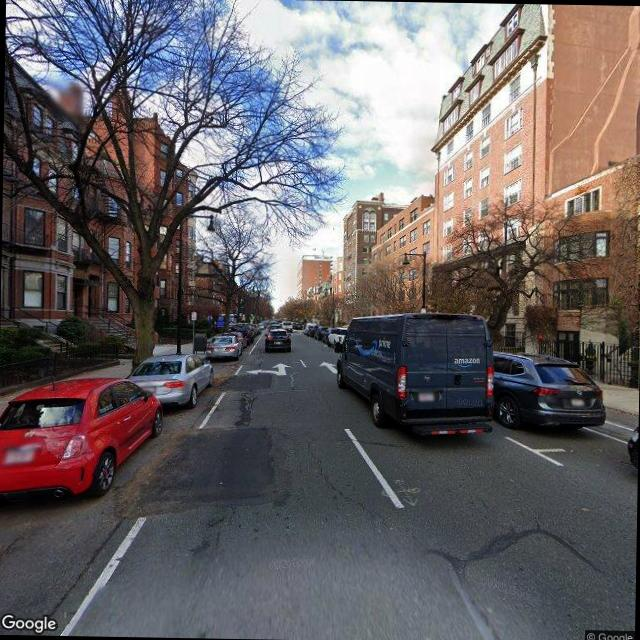pothole: (299, 437, 385, 525)
